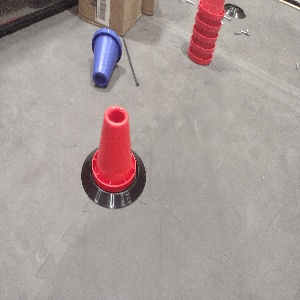Blue_1: (88, 24, 124, 89)
Red_1: (90, 100, 137, 190)
Red_5: (188, 0, 225, 65)
